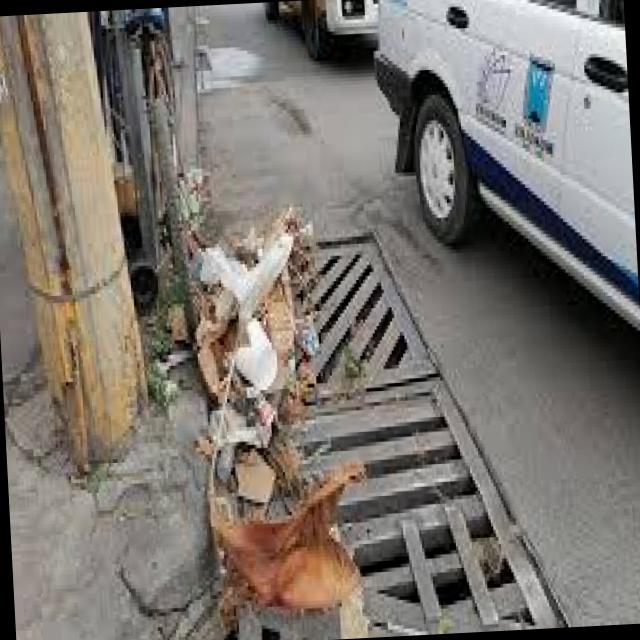garbage: (185, 201, 352, 630)
